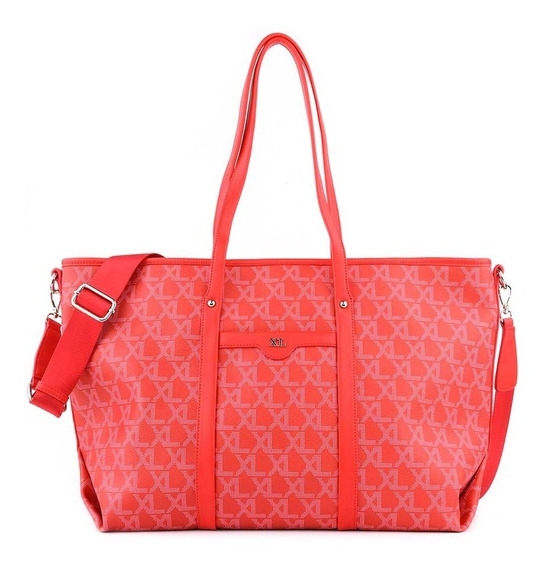cartera: (31, 32, 519, 534)
